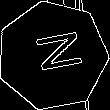N_W: (24, 31, 82, 80)
